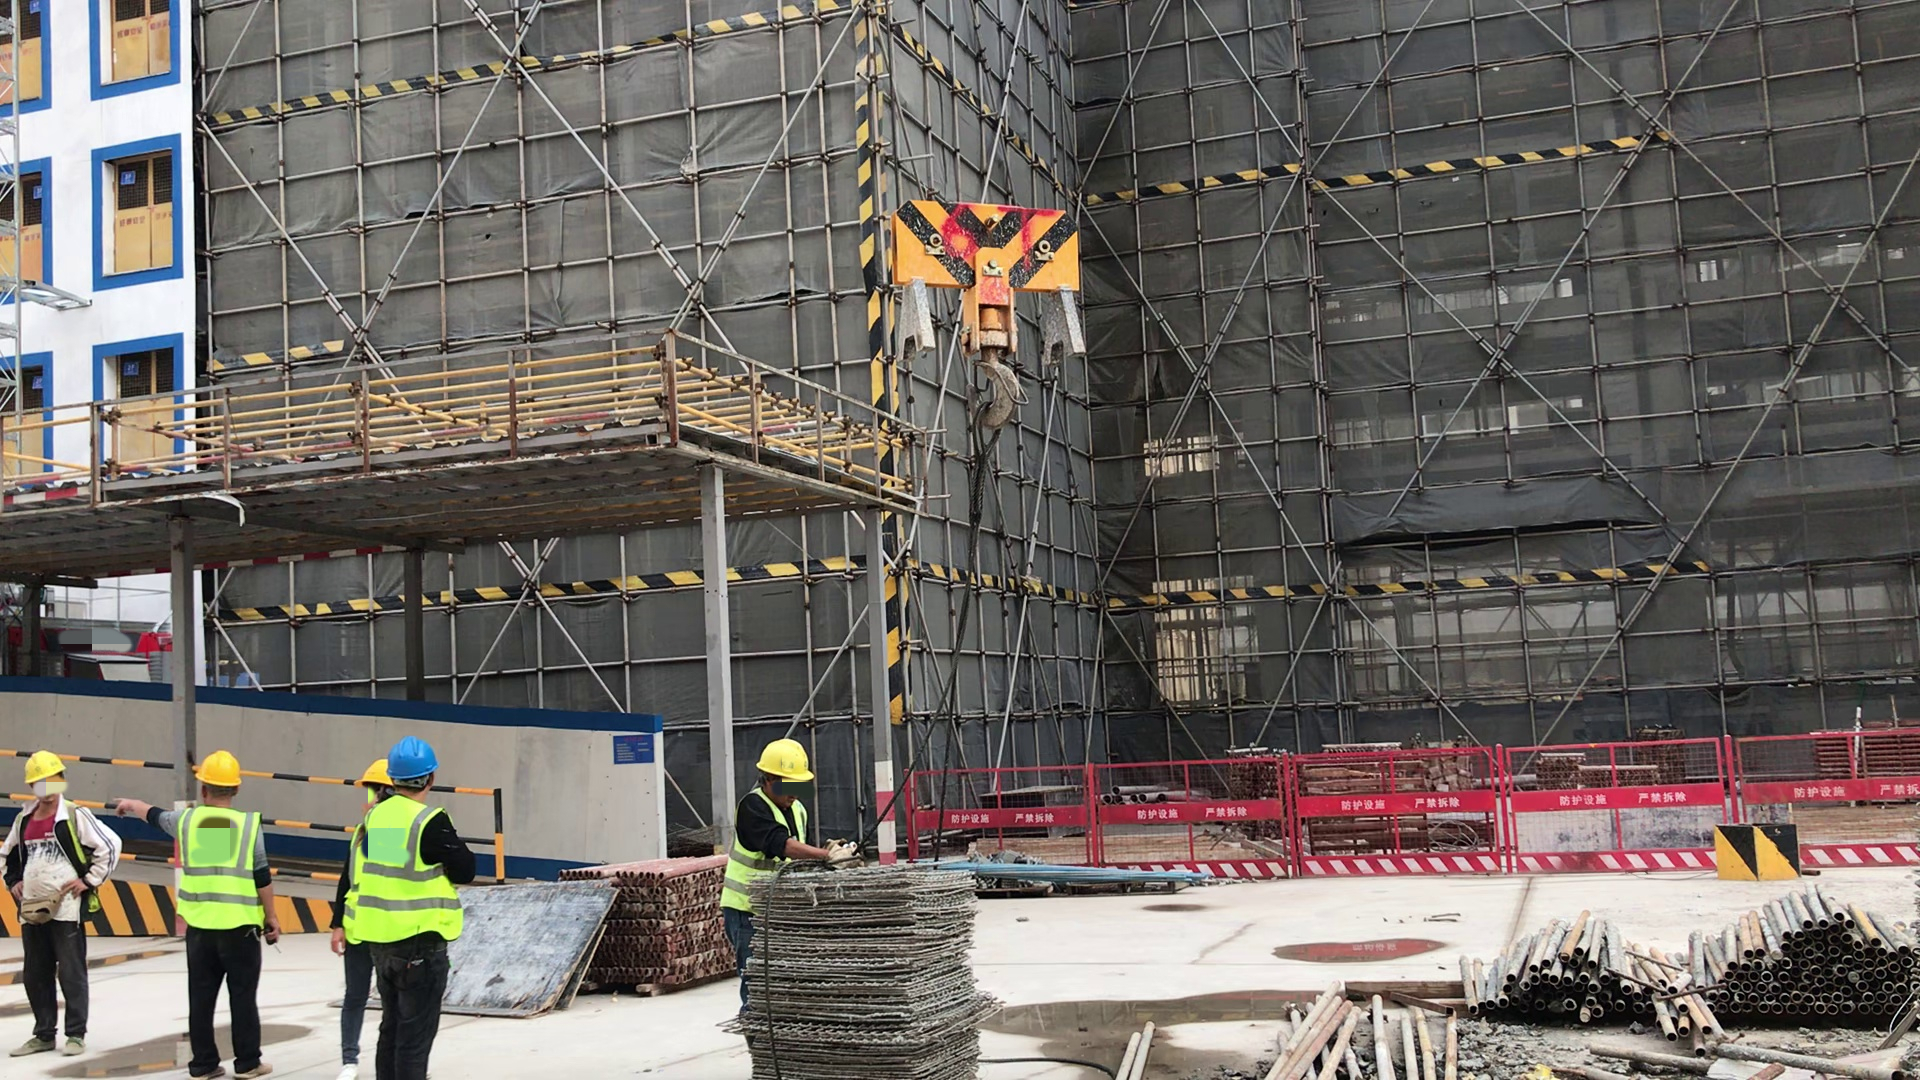fence: (905, 745, 1920, 904)
helmet: (382, 738, 456, 796), (758, 730, 822, 793), (18, 743, 74, 786), (192, 752, 249, 794), (365, 751, 398, 787)
hook: (894, 170, 1098, 354)
person: (157, 741, 282, 1070), (7, 744, 117, 1057), (365, 735, 464, 1080), (719, 731, 845, 939), (330, 752, 380, 1080)
scaffold: (1453, 916, 1915, 1012), (558, 856, 734, 1001)
vest: (366, 799, 465, 953), (168, 805, 266, 928), (720, 790, 809, 917), (339, 813, 373, 936)
